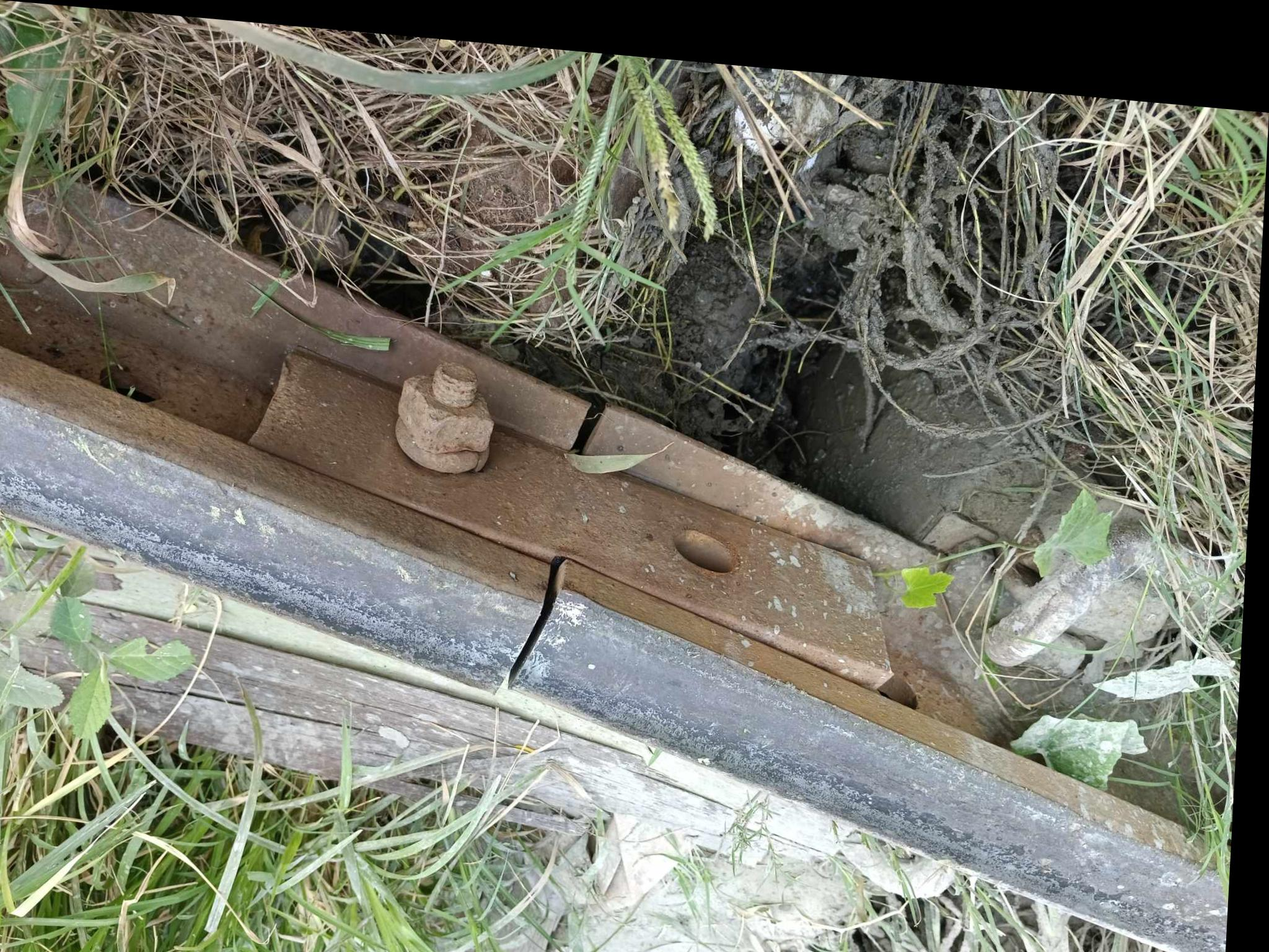person: (440, 514, 645, 725), (508, 330, 672, 504)
